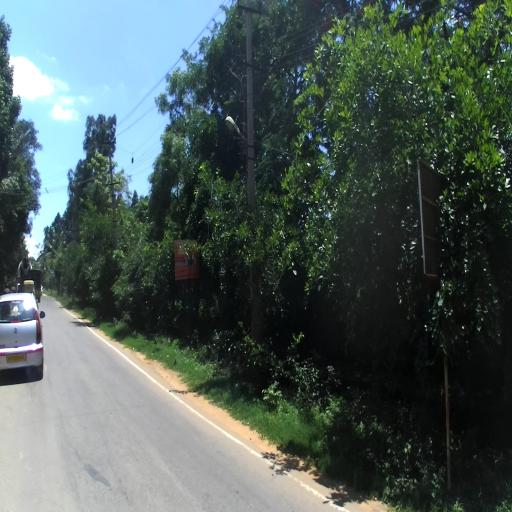street_light_0: (225, 116, 255, 162)
